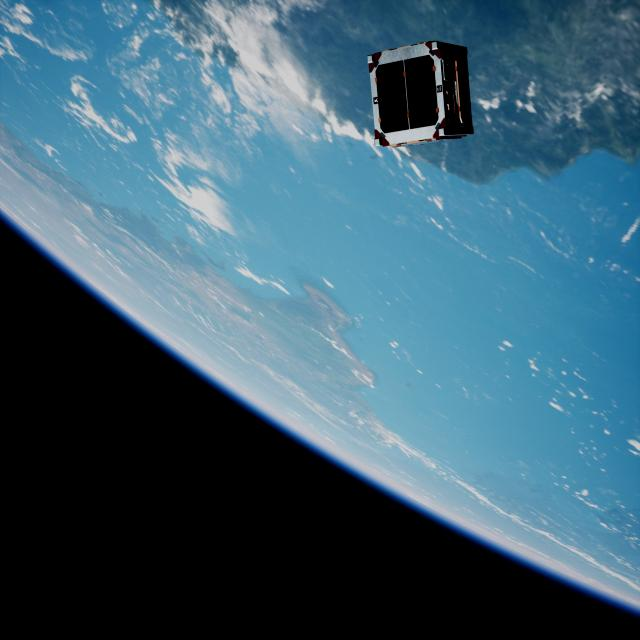satellite: (367, 36, 471, 148)
